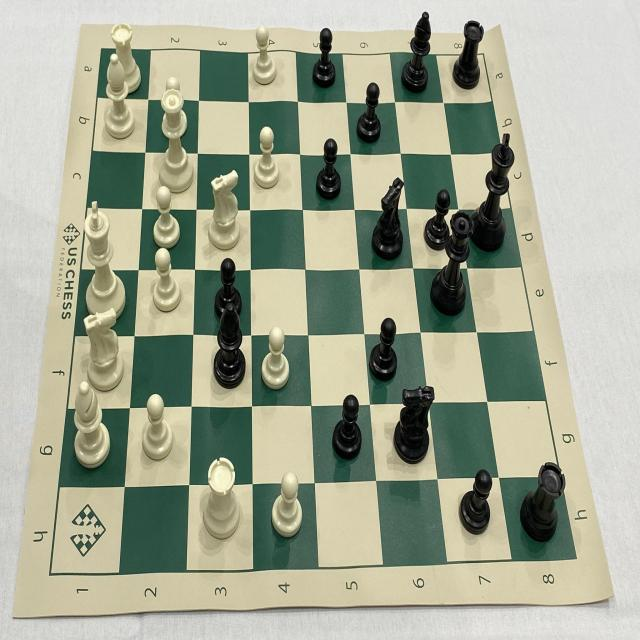black-bishop: (209, 300, 249, 391), (400, 5, 433, 96)
black-king: (471, 129, 517, 252)
black-knight: (392, 380, 434, 466), (370, 173, 406, 264)
black-pawn: (453, 466, 493, 538), (363, 312, 401, 386), (332, 389, 364, 462), (315, 133, 344, 204), (309, 26, 340, 91), (212, 255, 242, 322), (422, 187, 450, 256), (356, 80, 382, 148)
black-queen: (429, 212, 473, 326)
black-rook: (517, 458, 566, 543), (451, 16, 487, 92)
white-bishop: (70, 380, 113, 469), (101, 54, 137, 142)
white-king: (80, 199, 126, 321)
white-knight: (80, 307, 128, 392), (207, 169, 243, 252)
white-pawn: (266, 469, 304, 544), (140, 391, 176, 464), (149, 243, 183, 315), (261, 322, 291, 393), (252, 122, 282, 191), (152, 184, 182, 252), (159, 75, 190, 138), (249, 22, 278, 88)
white-queen: (154, 88, 197, 196)
white-rook: (200, 452, 242, 543), (109, 20, 142, 95)
